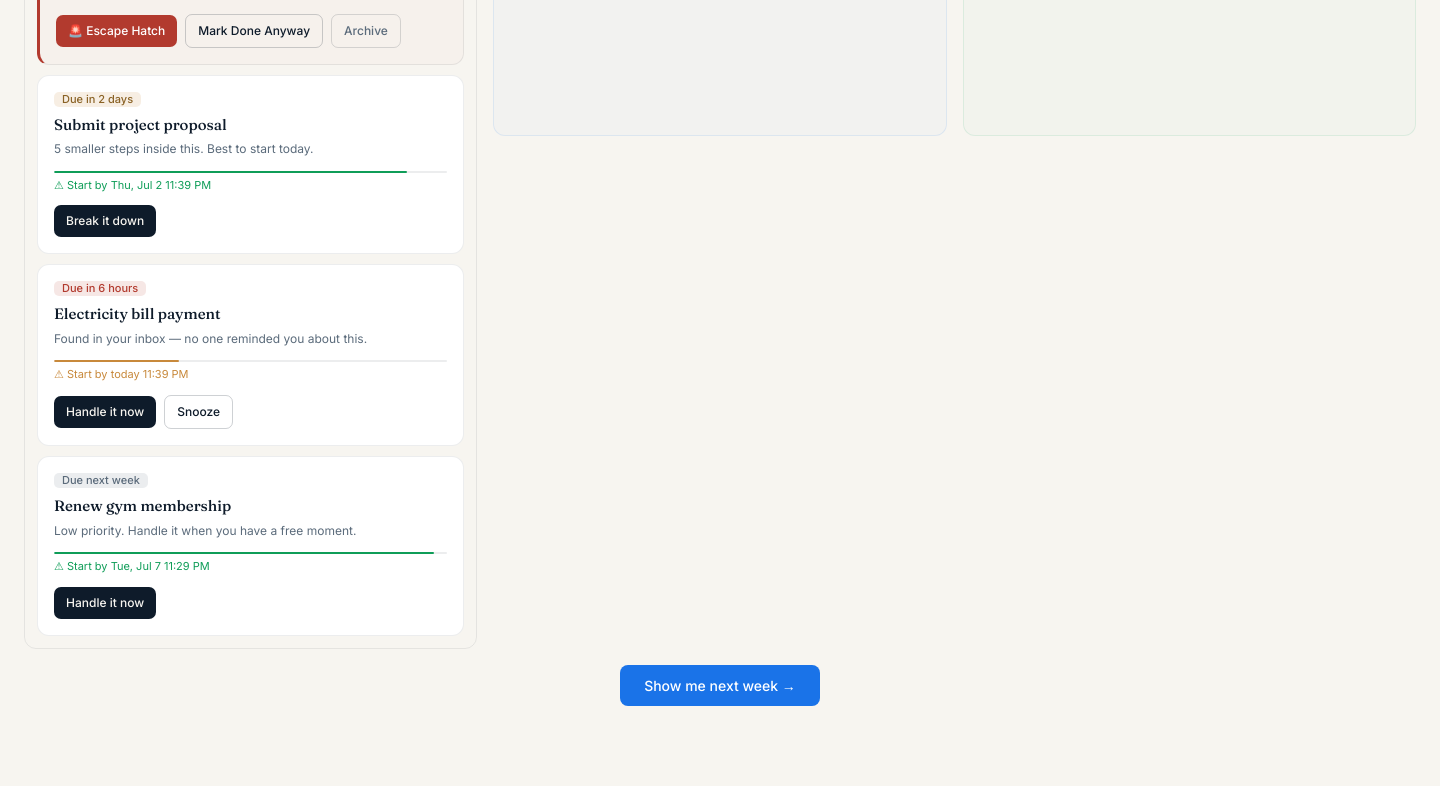
Scenario: Smart Task Prioritization › In Progress preserves insertion order
(page scrolled)
Note: Move gym (low) first, then electricity (high)
Click the button "Handle it now" below "⚠ Start by Tue, Jul 7 11:29 PM": coordinates (105, 602) [54,586,156,618]
(page scrolled)
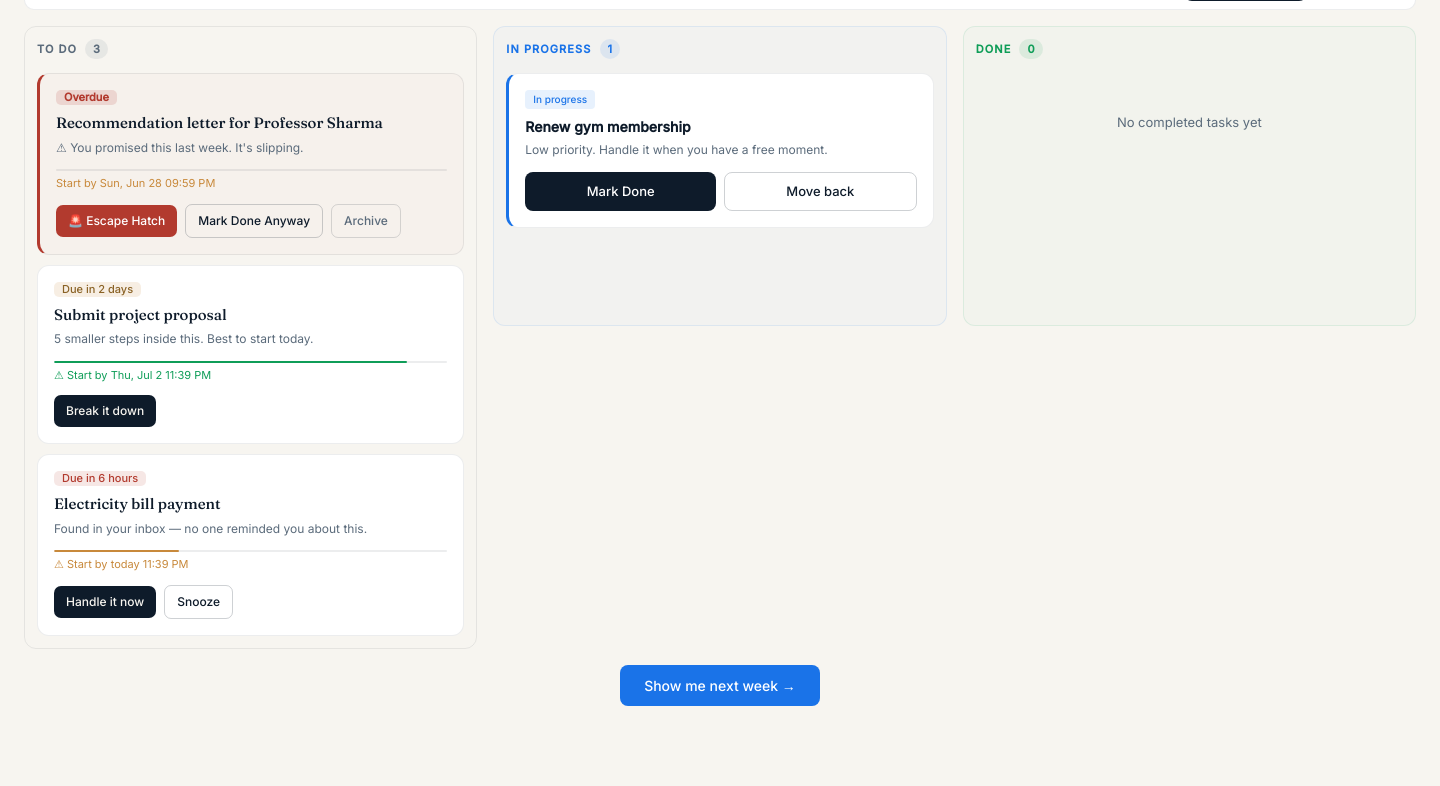
Click the button "Handle it now": coordinates (105, 602) [54,586,156,618]
(page scrolled)
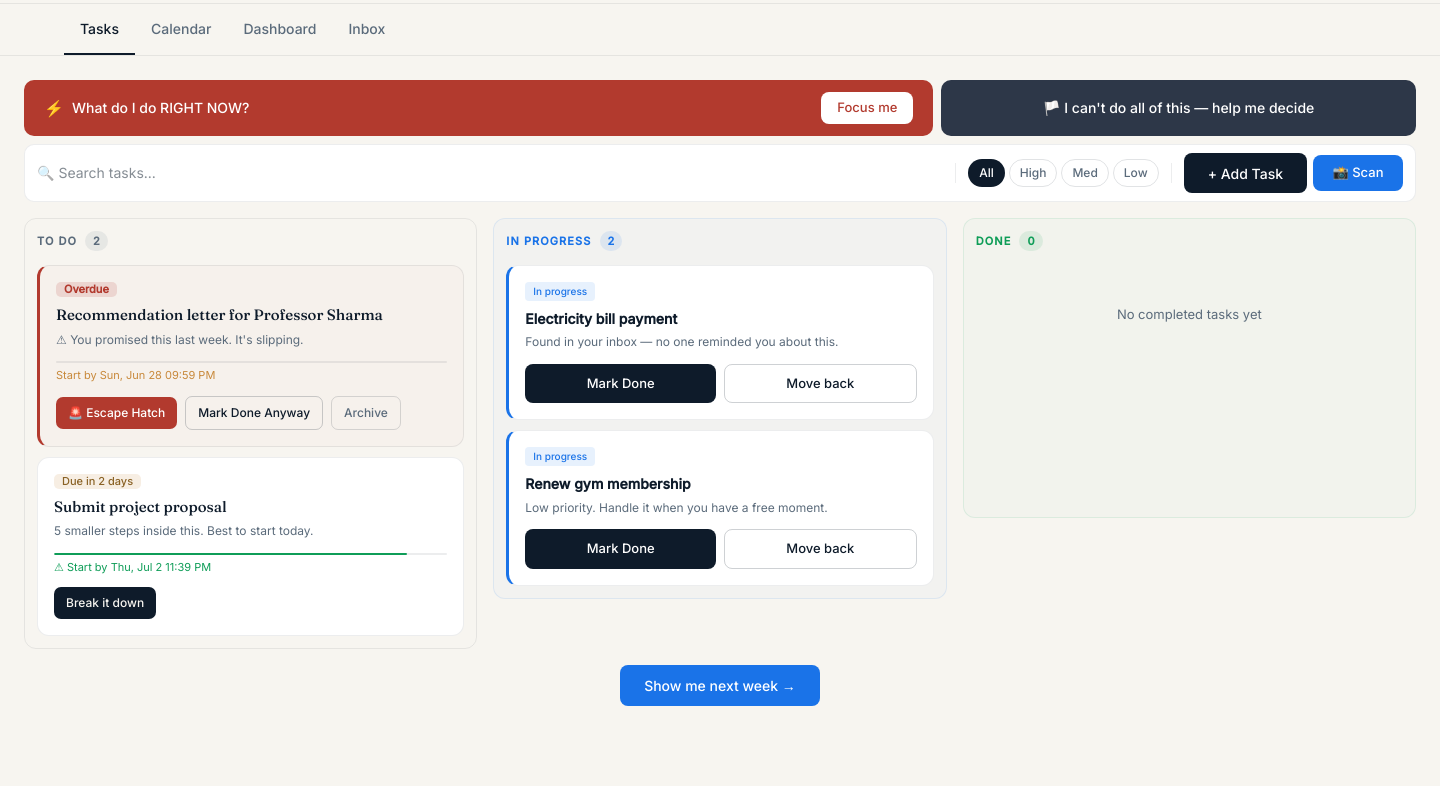
Now the text "In progress" is shown 2 times, box [525,282,595,301]; [525,447,595,466]
